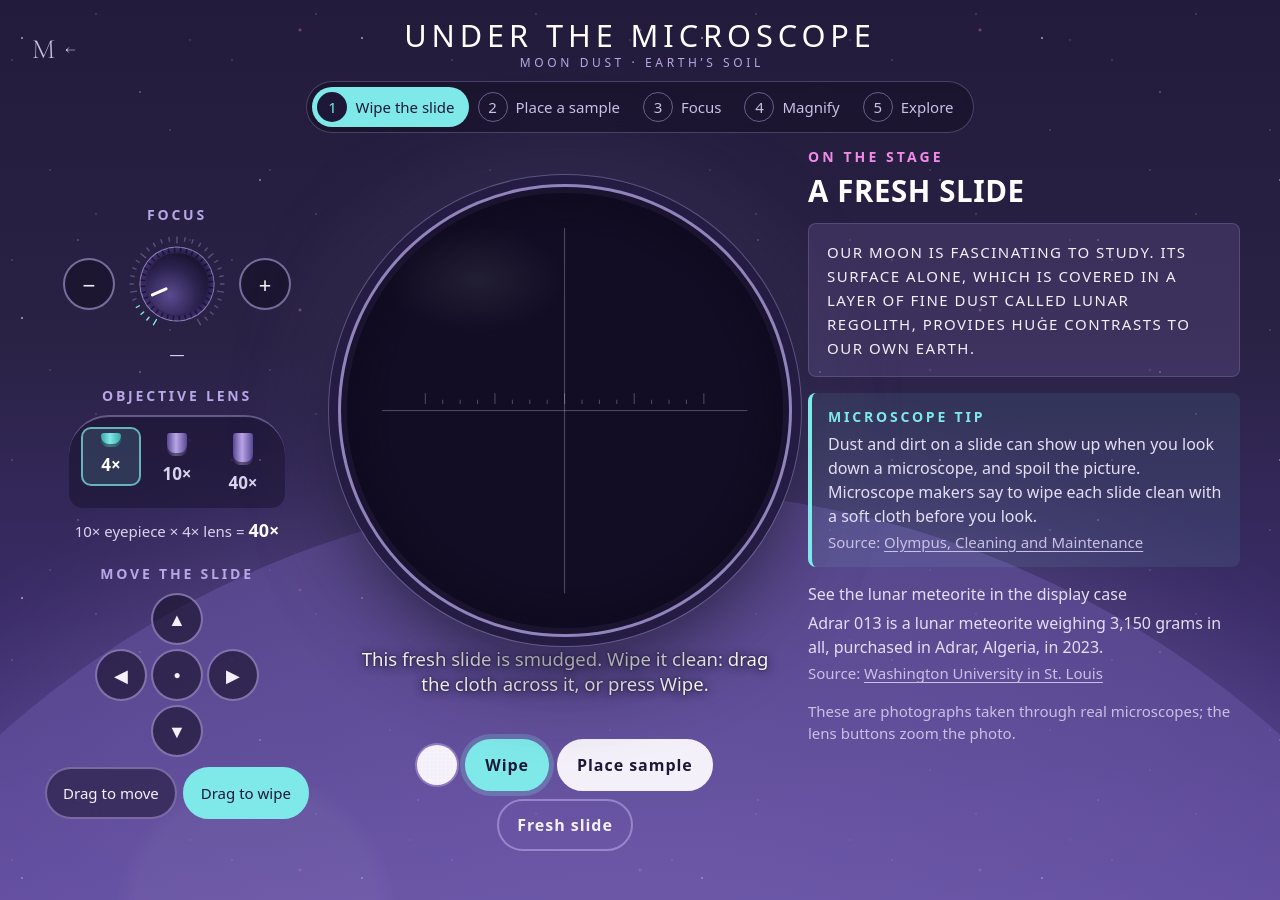
the procedure › reminds you to wipe the slide before placing a sample, and does not open the tray
Click the button "Place sample".
click(635, 765)  # box 557,739 -> 713,791
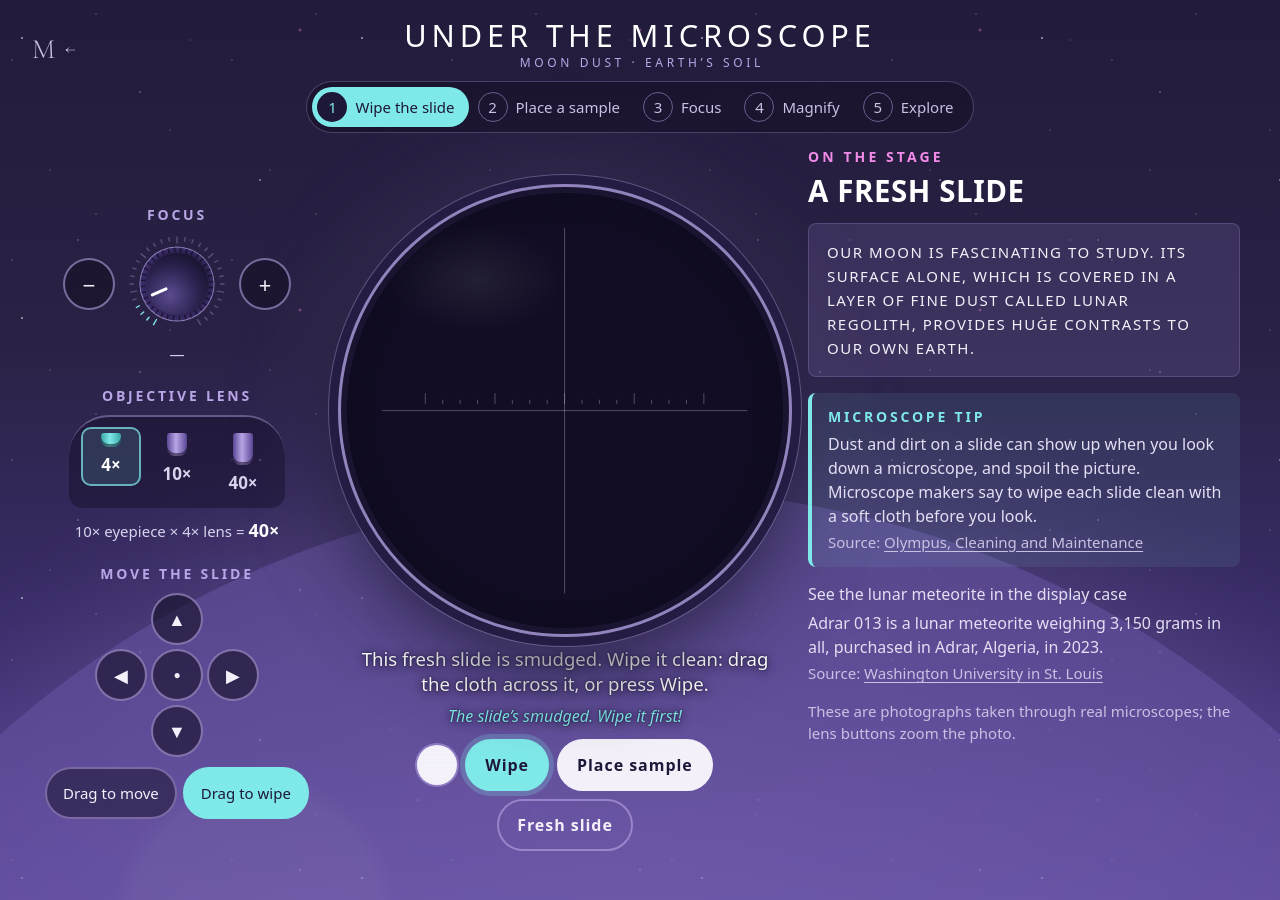
Expected: the message reads "The slide’s smudged. Wipe it first!", 448,705 -> 682,727
Click the button "Wipe".
click(507, 765)  # box 465,739 -> 549,791
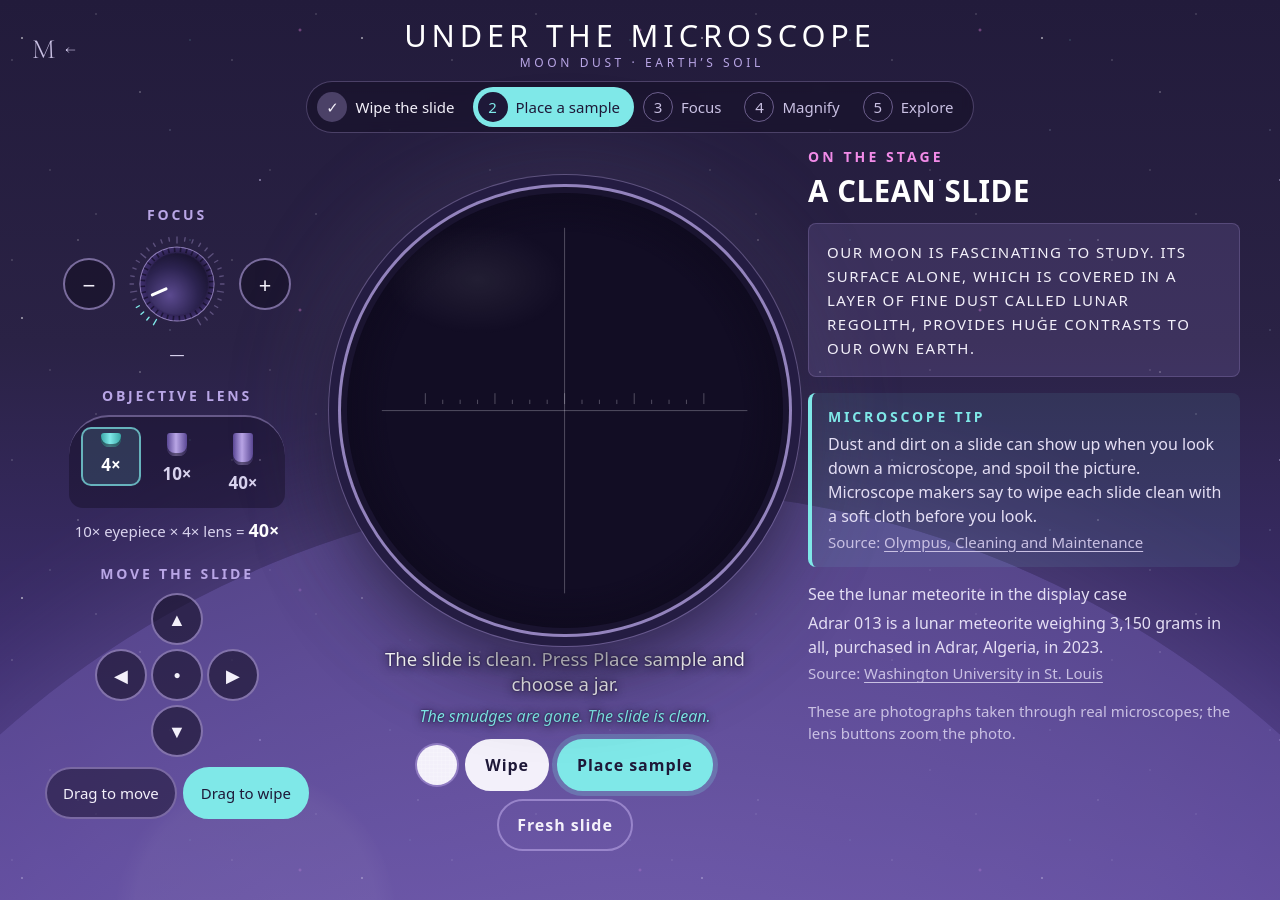
Expected: the list item "2 Place a sample" is shown, 472,87 -> 634,127
Expected: the message reads "The smudges are gone. The slide is clean.", 419,705 -> 711,727
Click the button "Wipe".
click(507, 765)  # box 465,739 -> 549,791
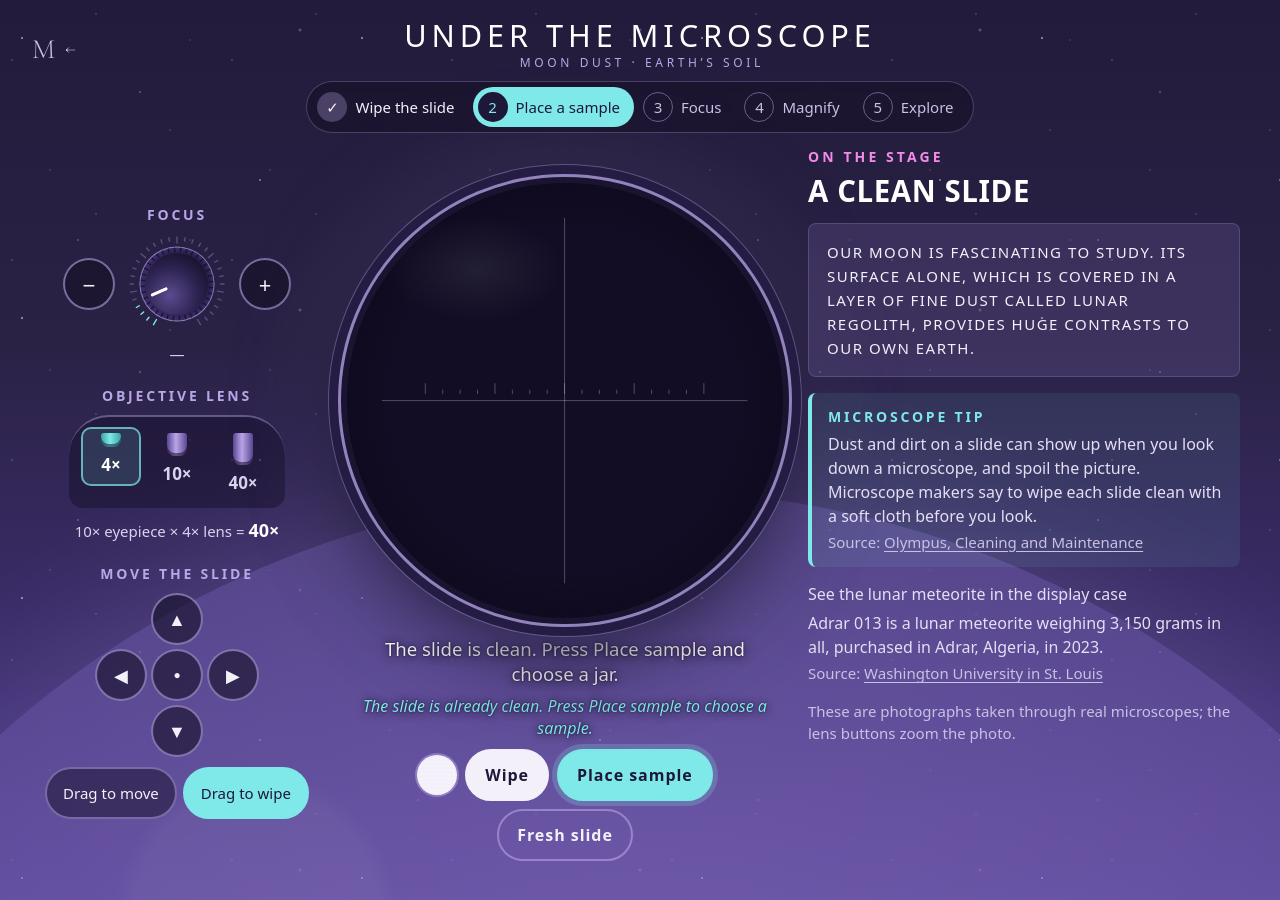
Expected: the message shows "The slide is already clean.", 363,695 -> 767,738
